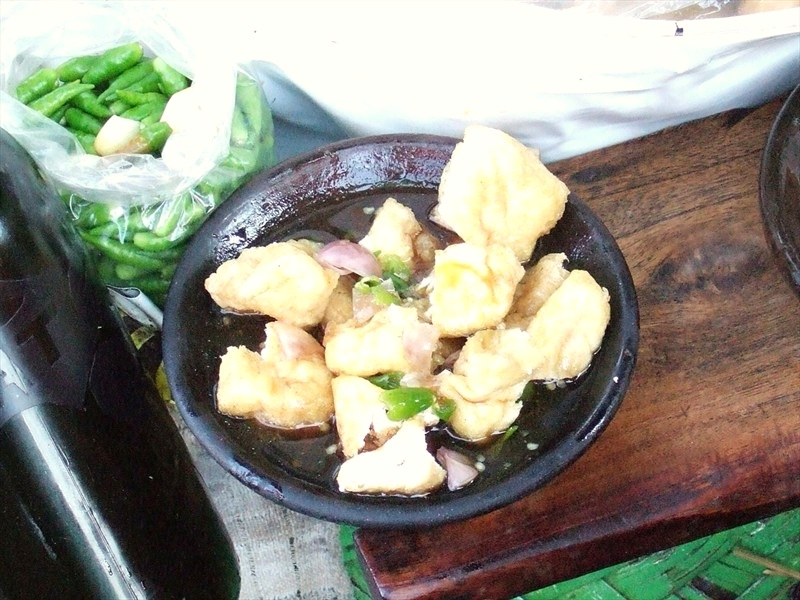Tahu Goreng: (42, 74, 623, 501)
